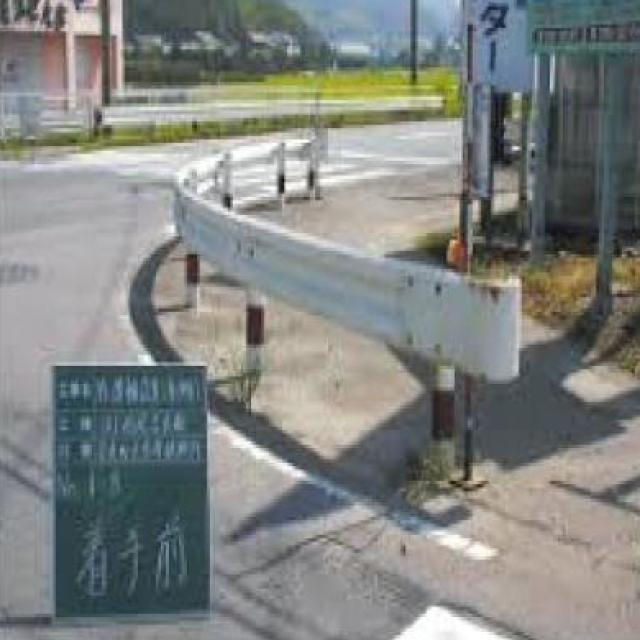Guard rail: (169, 128, 524, 486)
